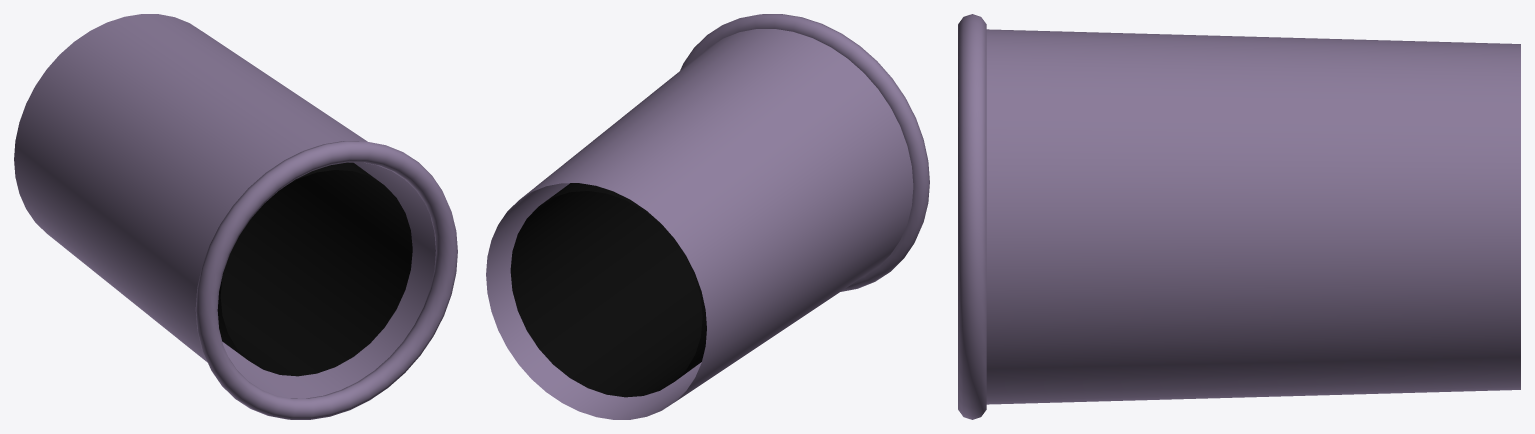
Rendered from exhaust-titanium-dual.glb.
The picture shows the model from 3 angles, left to right: view 1: azimuth 30°, elevation 25°; view 2: azimuth 150°, elevation 25°; view 3: azimuth 270°, elevation 25°; orthographic projection. The views are drawn at different scales.
Visible parts, largest first — view 1: exhaust_Titanium, exhaust_Mesh_Grille; view 2: exhaust_Titanium, exhaust_Mesh_Grille; view 3: exhaust_Titanium.
Boxes of the visible parts, bbox=[...] form: exhaust_Titanium: bbox=[14, 14, 457, 419]; exhaust_Mesh_Grille: bbox=[217, 162, 412, 376]; exhaust_Titanium: bbox=[486, 14, 929, 419]; exhaust_Mesh_Grille: bbox=[510, 183, 706, 397]; exhaust_Titanium: bbox=[958, 14, 1520, 419].
Bounding box in the file's own units: 0.1037 × 0.1037 × 0.1437.
